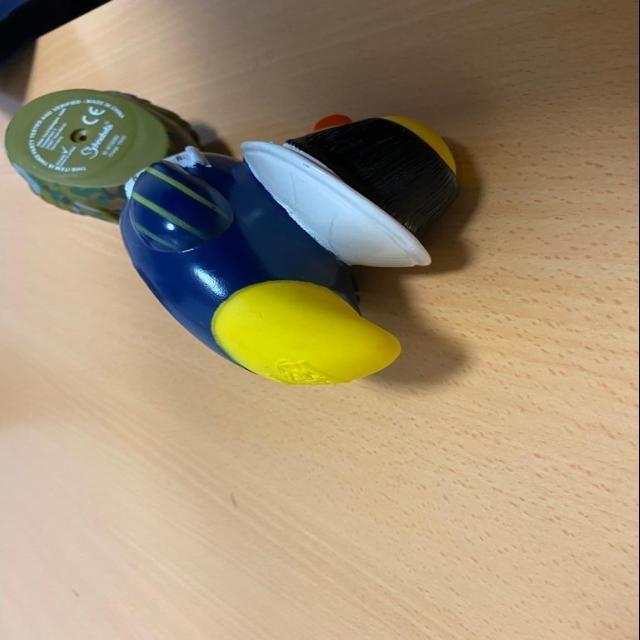rubber-duck: (119, 115, 456, 382), (4, 88, 132, 220)
